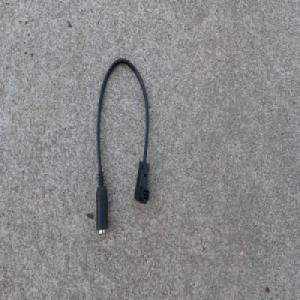Wire: (95, 55, 151, 236)
